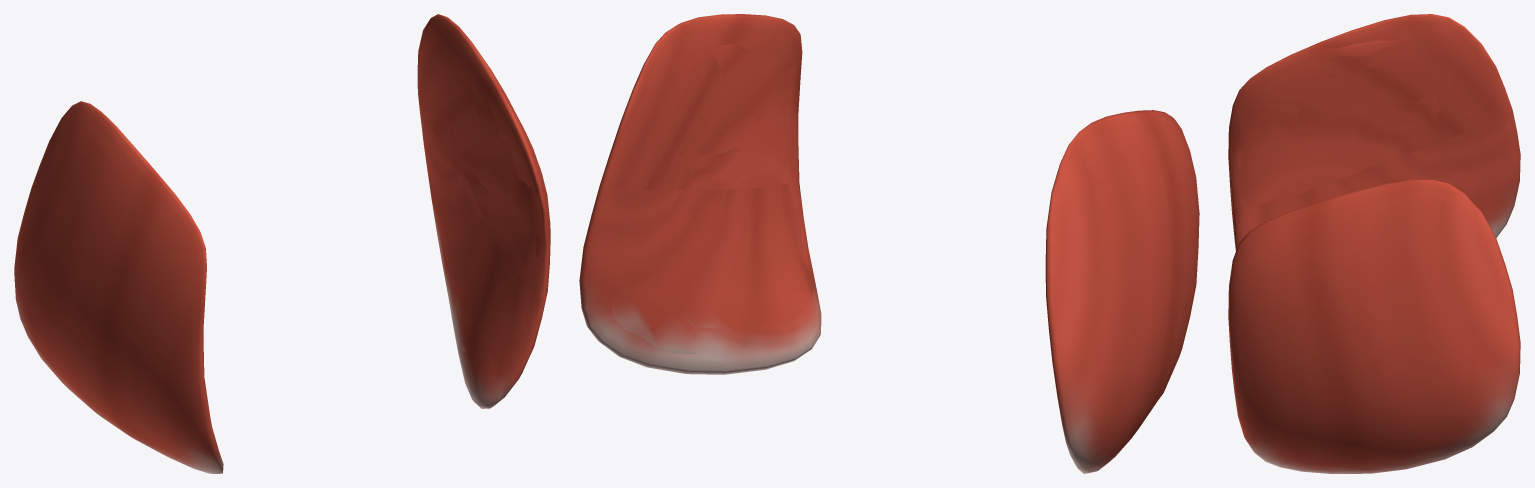
Rendered from Masseter.fbx.
3 renders of one model, left to right at view 1: azimuth 30°, elevation 25°; view 2: azimuth 150°, elevation 25°; view 3: azimuth 270°, elevation 25°, orthographic. The views are drawn at different scales.
Parts seen in each view (by area): view 1: Masseter, Masseter low; view 2: Masseter, Masseter low; view 3: Masseter, Masseter low.
Boxes of the visible parts, x1,y1,x2,y2 form: Masseter: (14,14,550,473); Masseter low: (38,78,545,414); Masseter: (579,14,1199,473); Masseter low: (609,43,1110,433); Masseter: (1228,14,1520,473); Masseter low: (1231,40,1486,375).
Size of the model in its own units: 10.58 by 7.48 by 6.39.
Materials: 1 (1 with a texture image).
